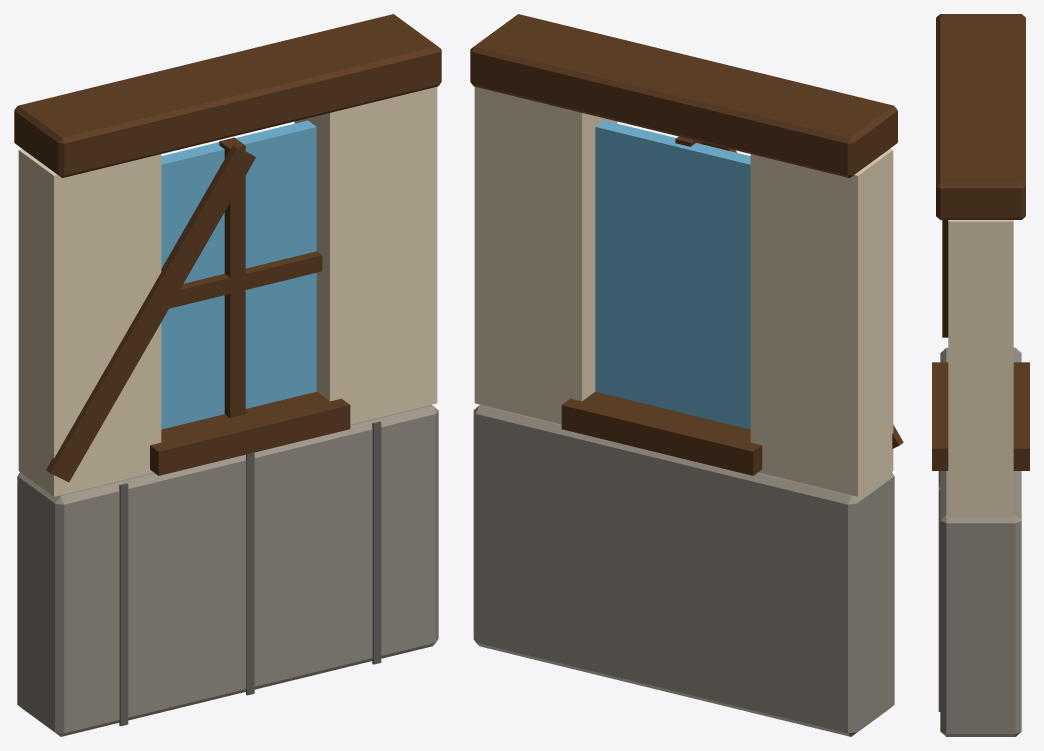
The model's file is PR_Building_Pencere.fbx.
3 views of the same model, side by side, from view 1: azimuth 30°, elevation 25°; view 2: azimuth 150°, elevation 25°; view 3: azimuth 270°, elevation 25° (orthographic). The views are drawn at different scales.
Parts seen in each view (by area): view 1: PR_Building_Pencere; view 2: PR_Building_Pencere; view 3: PR_Building_Pencere.
Boxes of the visible parts, x1,y1,x2,y2 form: PR_Building_Pencere: (14,14,441,736); PR_Building_Pencere: (470,14,903,736); PR_Building_Pencere: (932,14,1029,736).
Bounding box in the file's own units: 1.02 × 1.5 × 0.24.
